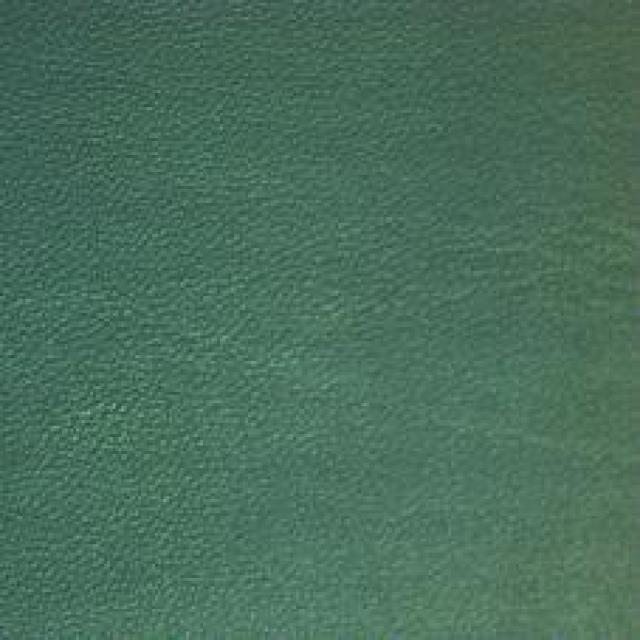Growth Marks: (425, 186, 620, 346)
